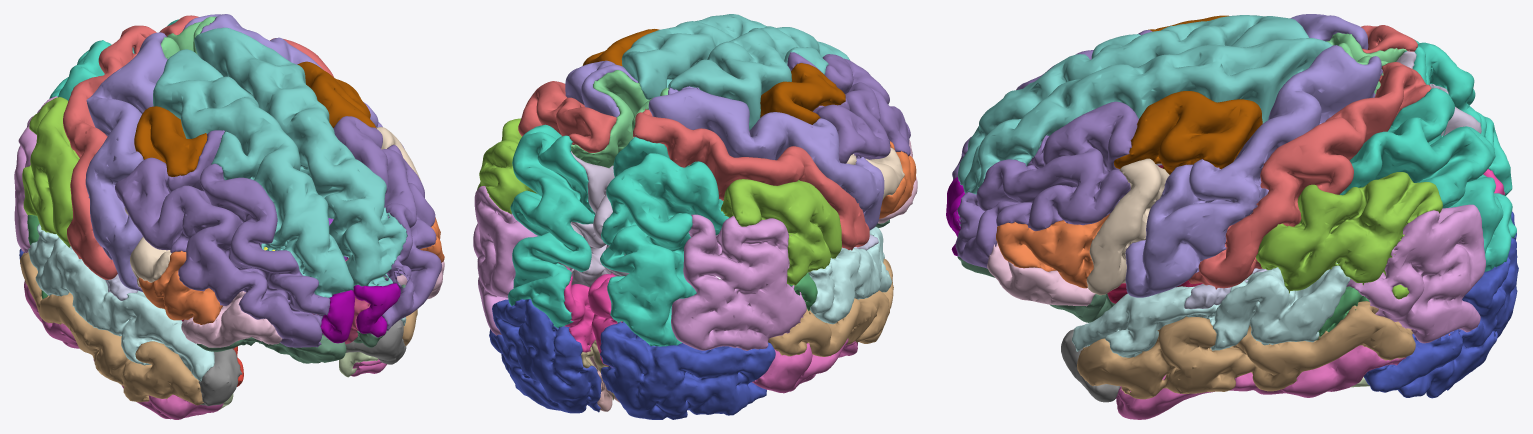
Rendered from cortex.lod0.glb.
The picture shows the model from 3 angles, left to right: view 1: azimuth 30°, elevation 25°; view 2: azimuth 150°, elevation 25°; view 3: azimuth 270°, elevation 25°; orthographic projection. The views are drawn at different scales.
Parts seen in each view (by area): view 1: anterior-part-of-middle-frontal-gyrus-r, superior-frontal-gyrus-r, superior-frontal-gyrus-l, precentral-gyrus-r, superior-temporal-gyrus-r, anterior-part-of-middle-frontal-gyrus-l, middle-temporal-gyrus-r, postcentral-gyrus-r, supramarginal-gyrus-r, posterior-part-of-middle-frontal-gyrus-r, triangular-part-of-inferior-frontal-gyrus-r, orbital-part-of-inferior-frontal-gyrus-r (+16 smaller); view 2: superior-parietal-lobule-r, inferior-parietal-lobule-r, superior-parietal-lobule-l, lateral-occipital-gyrus-r, precentral-gyrus-r, lateral-occipital-gyrus-l, postcentral-gyrus-r, superior-frontal-gyrus-r, supramarginal-gyrus-r, anterior-part-of-middle-frontal-gyrus-r, superior-frontal-gyrus-l, inferior-parietal-lobule-l (+16 smaller); view 3: precentral-gyrus-l, superior-frontal-gyrus-l, middle-temporal-gyrus-l, anterior-part-of-middle-frontal-gyrus-l, postcentral-gyrus-l, supramarginal-gyrus-l, superior-temporal-gyrus-l, superior-parietal-lobule-l, inferior-parietal-lobule-l, superior-frontal-gyrus-r, lateral-occipital-gyrus-l, posterior-part-of-middle-frontal-gyrus-l (+13 smaller).
Boxes of the visible parts, left/top/right/bottom form: anterior-part-of-middle-frontal-gyrus-r: left=115, top=130, right=330, bottom=347; superior-frontal-gyrus-r: left=153, top=49, right=353, bottom=297; superior-frontal-gyrus-l: left=194, top=27, right=407, bottom=286; precentral-gyrus-r: left=85, top=32, right=167, bottom=291; superior-temporal-gyrus-r: left=28, top=224, right=214, bottom=381; anterior-part-of-middle-frontal-gyrus-l: left=333, top=116, right=441, bottom=330; middle-temporal-gyrus-r: left=20, top=252, right=203, bottom=405; postcentral-gyrus-r: left=63, top=25, right=156, bottom=279; supramarginal-gyrus-r: left=22, top=97, right=79, bottom=247; posterior-part-of-middle-frontal-gyrus-r: left=134, top=106, right=207, bottom=176; triangular-part-of-inferior-frontal-gyrus-r: left=138, top=250, right=222, bottom=324; orbital-part-of-inferior-frontal-gyrus-r: left=181, top=291, right=282, bottom=347; superior-parietal-lobule-r: left=600, top=134, right=728, bottom=346; inferior-parietal-lobule-r: left=671, top=214, right=807, bottom=350; superior-parietal-lobule-l: left=508, top=124, right=595, bottom=328; lateral-occipital-gyrus-r: left=600, top=321, right=775, bottom=419; precentral-gyrus-r: left=648, top=86, right=884, bottom=230; lateral-occipital-gyrus-l: left=489, top=299, right=601, bottom=413; postcentral-gyrus-r: left=633, top=109, right=869, bottom=250; superior-frontal-gyrus-r: left=668, top=26, right=849, bottom=130; supramarginal-gyrus-r: left=721, top=179, right=841, bottom=285; anterior-part-of-middle-frontal-gyrus-r: left=787, top=52, right=910, bottom=163; superior-frontal-gyrus-l: left=621, top=14, right=767, bottom=99; inferior-parietal-lobule-l: left=473, top=186, right=538, bottom=335; precentral-gyrus-l: left=1125, top=45, right=1382, bottom=297; superior-frontal-gyrus-l: left=962, top=38, right=1332, bottom=194; middle-temporal-gyrus-l: left=1077, top=301, right=1415, bottom=399; anterior-part-of-middle-frontal-gyrus-l: left=955, top=101, right=1138, bottom=268; postcentral-gyrus-l: left=1188, top=62, right=1431, bottom=289; supramarginal-gyrus-l: left=1254, top=172, right=1442, bottom=299; superior-temporal-gyrus-l: left=1072, top=263, right=1350, bottom=357; superior-parietal-lobule-l: left=1339, top=88, right=1516, bottom=271; inferior-parietal-lobule-l: left=1346, top=204, right=1485, bottom=343; superior-frontal-gyrus-r: left=958, top=15, right=1308, bottom=185; lateral-occipital-gyrus-l: left=1363, top=237, right=1518, bottom=398; posterior-part-of-middle-frontal-gyrus-l: left=1114, top=91, right=1262, bottom=174.
Size of the model in its own units: 0.1377 by 0.1257 by 0.1878.
